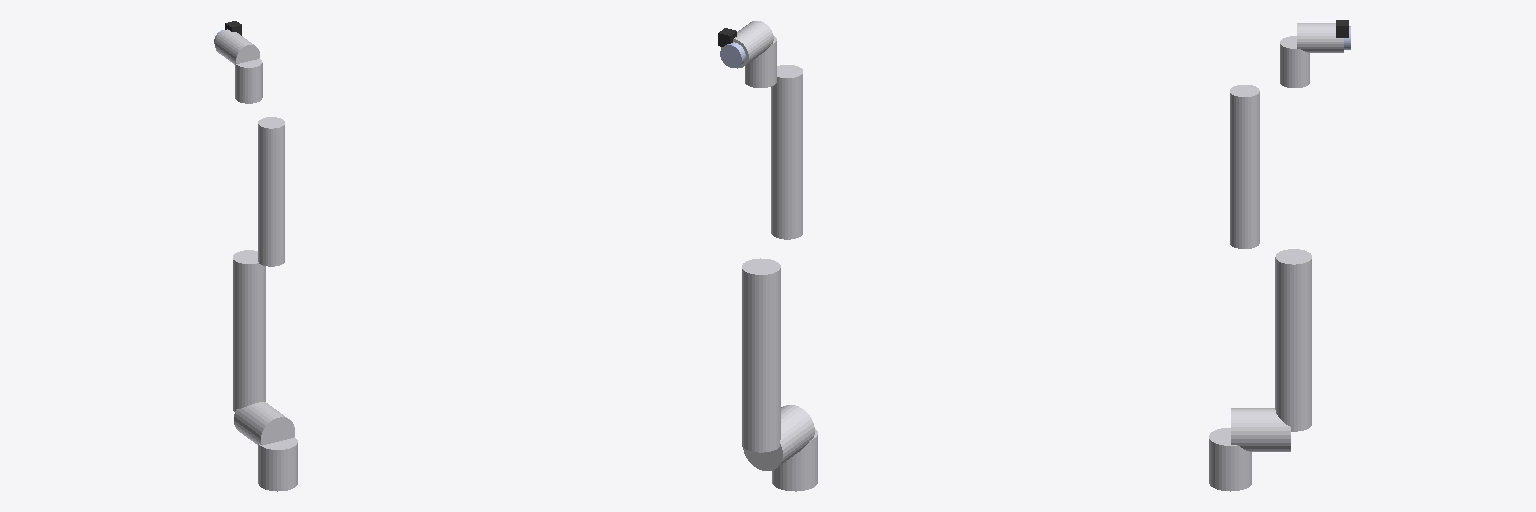
The robot description file, URDF, robot "sbot":
<?xml version="1.0" ?>
<!--
  Standard Bots Core (RO1) URDF — primitive-mesh edition.

  Source: standardbots/ros2-realtime-api src/robot_urdfs/core.urdf
  All <mesh> references in the upstream file resolve via package://standard_bots_description,
  which is not in this workspace. They have been replaced with sized cylinders/boxes derived
  from the link extents implied by adjacent joint origins. Inertials, joint origins, axes,
  and limits are unchanged.

  Also stripped: the upstream <ros2_control> block (uses standard_bots_hardware_interface
  plugin) and the scene_environment link. Mock ros2_control is provided separately by
  sbot_core.ros2_control.xacro.
-->
<robot name="sbot">
  <link name="world"/>

  <!-- base_link — pedestal, ~17cm tall to joint0 -->
  <link name="base_link">
    <inertial>
      <mass value="1.3899"/>
      <origin rpy="0 0 0" xyz="3.5615e-07 -3.5615e-07 0.038531"/>
      <inertia ixx="0.0032902" ixy="-4.9417e-13" ixz="6.3717e-08" iyy="0.0032903" iyz="-6.3717e-08" izz="0.0056833"/>
    </inertial>
    <visual>
      <origin rpy="0 0 0" xyz="0 0 0.075"/>
      <geometry><cylinder radius="0.065" length="0.15"/></geometry>
      <material name="sbot_grey"><color rgba="0.86667 0.86667 0.8902 1"/></material>
    </visual>
    <collision>
      <origin rpy="0 0 0" xyz="0 0 0.075"/>
      <geometry><cylinder radius="0.06" length="0.14"/></geometry>
    </collision>
  </link>

  <!-- shoulder_link — extends in -X to joint1 at x=-0.1885 -->
  <link name="shoulder_link">
    <inertial>
      <mass value="7.48000886526123"/>
      <origin rpy="0 0 0" xyz="-0.0155060034853395 5.31133813950851e-06 0.00202665932285853"/>
      <inertia ixx="0.0290130325419372" ixy="1.13558315803054e-06" ixz="-0.000123670453068877" iyy="0.0296005432331486" iyz="7.83938203517328e-08" izz="0.0236795403640951"/>
    </inertial>
    <visual>
      <origin rpy="0 1.5707963 0" xyz="-0.09 0 0"/>
      <geometry><cylinder radius="0.065" length="0.18"/></geometry>
      <material name="sbot_grey"/>
    </visual>
    <collision>
      <origin rpy="0 1.5707963 0" xyz="-0.09 0 0"/>
      <geometry><cylinder radius="0.06" length="0.16"/></geometry>
    </collision>
  </link>

  <!-- upper_arm_link — extends along +Z to joint2 at z=0.5907 -->
  <link name="upper_arm_link">
    <inertial>
      <mass value="13.27"/>
      <origin rpy="0 0 0" xyz="0.00037048 -1.0498e-06 0.24431"/>
      <inertia ixx="0.67313" ixy="1.0675e-07" ixz="-0.0075436" iyy="0.67925" iyz="-4.7892e-06" izz="0.037155"/>
    </inertial>
    <visual>
      <origin rpy="0 0 0" xyz="0 0 0.295"/>
      <geometry><cylinder radius="0.055" length="0.55"/></geometry>
      <material name="sbot_grey"/>
    </visual>
    <collision>
      <origin rpy="0 0 0" xyz="0 0 0.295"/>
      <geometry><cylinder radius="0.05" length="0.52"/></geometry>
    </collision>
  </link>

  <!-- forearm_link — extends along +Z to joint3 at z=0.5494 -->
  <link name="forearm_link">
    <inertial>
      <mass value="3.99015526098533"/>
      <origin rpy="0 0 0" xyz="-0.00856270285673266 -0.000680803891636816 0.284368892424253"/>
      <inertia ixx="0.183498055568642" ixy="5.42912788104132e-05" ixz="-0.00223976271110487" iyy="0.185228712942926" iyz="0.000226731091687184" izz="0.00597848990228215"/>
    </inertial>
    <visual>
      <origin rpy="0 0 0" xyz="0 0 0.275"/>
      <geometry><cylinder radius="0.045" length="0.50"/></geometry>
      <material name="sbot_grey"/>
    </visual>
    <collision>
      <origin rpy="0 0 0" xyz="0 0 0.275"/>
      <geometry><cylinder radius="0.04" length="0.47"/></geometry>
    </collision>
  </link>

  <!-- wrist_1_link — extends along +Z to joint4 at z=0.1498 -->
  <link name="wrist_1_link">
    <inertial>
      <mass value="2.34998758206812"/>
      <origin rpy="0 0 0" xyz="0.00603382118543186 5.30466422090696e-05 0.00949427052813601"/>
      <inertia ixx="0.00536507490753713" ixy="-1.22216192461661e-06" ixz="7.53472115754737e-05" iyy="0.00569170816671894" iyz="-2.77149728808046e-06" izz="0.00279356137797234"/>
    </inertial>
    <visual>
      <origin rpy="0 0 0" xyz="0 0 0.07"/>
      <geometry><cylinder radius="0.045" length="0.13"/></geometry>
      <material name="sbot_grey"/>
    </visual>
    <collision>
      <origin rpy="0 0 0" xyz="0 0 0.07"/>
      <geometry><cylinder radius="0.04" length="0.11"/></geometry>
    </collision>
  </link>

  <!-- wrist_2_link — extends along -X to joint5 at x=-0.1621 -->
  <link name="wrist_2_link">
    <inertial>
      <mass value="2.34998758206813"/>
      <origin rpy="0 0 0" xyz="-0.00949427052813648 -5.30466422084472e-05 -0.00603382118543183"/>
      <inertia ixx="0.00279356137797234" ixy="-2.77149728807979e-06" ixz="7.53472115754781e-05" iyy="0.00569170816671896" iyz="-1.2221619246072e-06" izz="0.00536507490753716"/>
    </inertial>
    <visual>
      <origin rpy="0 1.5707963 0" xyz="-0.075 0 0"/>
      <geometry><cylinder radius="0.045" length="0.14"/></geometry>
      <material name="sbot_grey"/>
    </visual>
    <collision>
      <origin rpy="0 1.5707963 0" xyz="-0.075 0 0"/>
      <geometry><cylinder radius="0.04" length="0.12"/></geometry>
    </collision>
  </link>

  <!-- wrist_3_link — small wrist tip, mass center near +X 0.048 -->
  <link name="wrist_3_link">
    <inertial>
      <mass value="0.572775624406093"/>
      <origin rpy="0 0 0" xyz="0.0477321679131623 0.00028403740032851 -0.00497796255034433"/>
      <inertia ixx="0.000707097246403867" ixy="7.23198267535677e-06" ixz="4.16184287898907e-05" iyy="0.000679826517402998" iyz="-2.50233694519018e-06" izz="0.000615679707653451"/>
    </inertial>
    <visual>
      <origin rpy="0 1.5707963 0" xyz="0.025 0 0"/>
      <geometry><cylinder radius="0.035" length="0.06"/></geometry>
      <material name="sbot_grey_dark"><color rgba="0.79216 0.81961 0.93333 1"/></material>
    </visual>
    <collision>
      <origin rpy="0 1.5707963 0" xyz="0.025 0 0"/>
      <geometry><cylinder radius="0.03" length="0.05"/></geometry>
    </collision>
  </link>

  <!-- wrist_3_cable_link — tiny cable accessory, kept for kinematic completeness -->
  <link name="wrist_3_cable_link">
    <inertial>
      <mass value="0.0080607"/>
      <origin rpy="0 0 0" xyz="0.019129 0.02812 0.040316"/>
      <inertia ixx="1.4286e-05" ixy="3.3605e-06" ixz="-2.5233e-06" iyy="9.3785e-06" iyz="5.8377e-06" izz="9.3754e-06"/>
    </inertial>
    <visual>
      <origin rpy="0 0 0" xyz="0.02 0.025 0.04"/>
      <geometry><box size="0.04 0.04 0.04"/></geometry>
      <material name="cable_grey"><color rgba="0.25098 0.25098 0.25098 1"/></material>
    </visual>
    <collision>
      <origin rpy="0 0 0" xyz="0.02 0.025 0.04"/>
      <geometry><box size="0.035 0.035 0.035"/></geometry>
    </collision>
  </link>

  <!-- Standard ROS-Industrial frames (no geometry) -->
  <link name="tool0"/>
  <link name="base"/>
  <link name="flange"/>

  <!-- JOINTS — unchanged from upstream -->
  <joint name="base_joint" type="fixed">
    <origin rpy="0 0 -1.5707963267948966" xyz="0 0 0"/>
    <parent link="world"/>
    <child link="base_link"/>
  </joint>

  <joint name="joint0" type="revolute">
    <origin rpy="0 0 0" xyz="0 0 0.172"/>
    <parent link="base_link"/>
    <child link="shoulder_link"/>
    <axis xyz="0 0 1"/>
    <limit effort="346.0" lower="-6.283185307179586" upper="6.283185307179586" velocity="4.71238898038469"/>
  </joint>

  <joint name="joint1" type="revolute">
    <origin rpy="0 0 0" xyz="-0.1885 0 0"/>
    <parent link="shoulder_link"/>
    <child link="upper_arm_link"/>
    <axis xyz="-1 0 0"/>
    <limit effort="346.0" lower="-2.356194490192345" upper="2.356194490192345" velocity="4.71238898038469"/>
  </joint>

  <joint name="joint2" type="revolute">
    <origin rpy="0 0 0" xyz="0.14635000035763 0 0.5906999941826"/>
    <parent link="upper_arm_link"/>
    <child link="forearm_link"/>
    <axis xyz="-1 0 0"/>
    <limit effort="163.0" lower="-2.8797932657906435" upper="2.8797932657906435" velocity="5.026548245743669"/>
  </joint>

  <joint name="joint3" type="revolute">
    <origin rpy="0 0 0" xyz="-0.1498 0 0.5494"/>
    <parent link="forearm_link"/>
    <child link="wrist_1_link"/>
    <axis xyz="-1 0 0"/>
    <limit effort="63.0" lower="-6.283185307179586" upper="6.283185307179586" velocity="6.806784082777885"/>
  </joint>

  <joint name="joint4" type="revolute">
    <origin rpy="0 0 0" xyz="0 0 0.1498"/>
    <parent link="wrist_1_link"/>
    <child link="wrist_2_link"/>
    <axis xyz="0 0 1"/>
    <limit effort="63.0" lower="-6.283185307179586" upper="6.283185307179586" velocity="6.806784082777885"/>
  </joint>

  <joint name="joint5" type="revolute">
    <origin rpy="0 0 0" xyz="-0.1621 0 0"/>
    <parent link="wrist_2_link"/>
    <child link="wrist_3_link"/>
    <axis xyz="-1 0 0"/>
    <limit effort="63.0" lower="-6.283185307179586" upper="6.283185307179586" velocity="6.806784082777885"/>
  </joint>

  <joint name="joint5-tool0" type="fixed">
    <parent link="wrist_3_link"/>
    <child link="tool0"/>
    <origin rpy="1.5707963267948966 0 -1.5707963267948966" xyz="0 0 0"/>
  </joint>

  <joint name="joint5_cable" type="fixed">
    <parent link="wrist_3_link"/>
    <child link="wrist_3_cable_link"/>
    <origin rpy="0 0 0" xyz="0 0 0"/>
    <axis xyz="0 0 0"/>
  </joint>

  <joint name="base_link-base_joint" type="fixed">
    <origin rpy="0 0 0" xyz="0 0 0"/>
    <parent link="base_link"/>
    <child link="base"/>
  </joint>

  <joint name="tool0-flange_joint" type="fixed">
    <origin rpy="0 0 0" xyz="0 0 0"/>
    <parent link="tool0"/>
    <child link="flange"/>
  </joint>
</robot>

--- What the picture shows (computed from the rendered views, not written in the file) ---
The picture shows the robot from 3 angles, left to right: view 1: azimuth 30°, elevation 25°; view 2: azimuth 150°, elevation 25°; view 3: azimuth 270°, elevation 25°; orthographic projection.
Robot: sbot — 12 links, 11 joints (6 revolute, 5 fixed); root link world; default pose: all joints at 0.
Visible links, largest first — view 1: upper_arm_link, forearm_link, base_link, shoulder_link, wrist_1_link, wrist_2_link; view 2: upper_arm_link, forearm_link, shoulder_link, base_link, wrist_2_link, wrist_1_link; view 3: upper_arm_link, forearm_link, shoulder_link, base_link, wrist_1_link, wrist_2_link.
Link boxes in pixels (x1,y1,x2,y2): upper_arm_link: [233, 250, 265, 411]; forearm_link: [258, 117, 284, 266]; base_link: [258, 437, 297, 491]; shoulder_link: [234, 402, 294, 445]; wrist_1_link: [235, 58, 262, 103]; wrist_2_link: [215, 29, 259, 64]; upper_arm_link: [742, 258, 780, 452]; forearm_link: [771, 65, 802, 239]; shoulder_link: [743, 405, 814, 470]; base_link: [772, 429, 817, 491]; wrist_2_link: [721, 21, 773, 68]; wrist_1_link: [745, 35, 776, 87]; upper_arm_link: [1275, 249, 1311, 431]; forearm_link: [1230, 85, 1259, 248]; shoulder_link: [1231, 408, 1290, 451]; base_link: [1209, 428, 1251, 491]; wrist_1_link: [1280, 36, 1309, 87]; wrist_2_link: [1297, 23, 1343, 52].
Size in the robot's own frame: 0.13 by 0.4241 by 1.52 metres.
Geometry: primitives only (box / cylinder / sphere), no mesh files.
